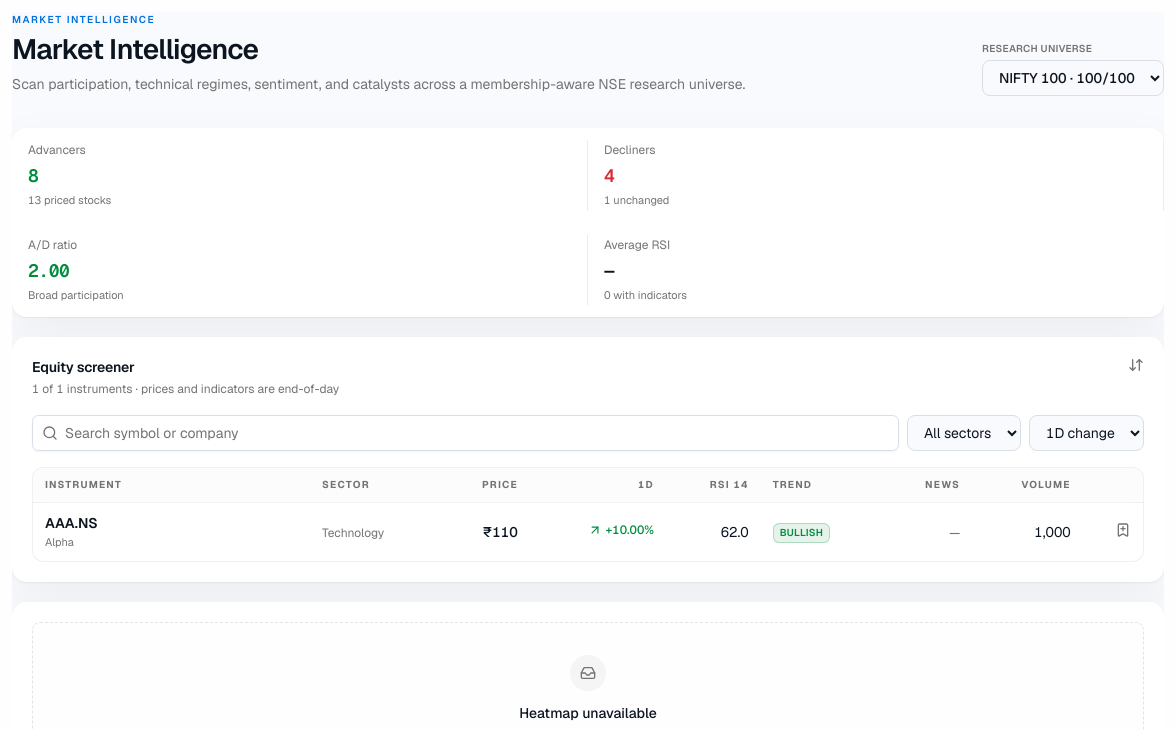
Test: MarketPage AI analysis states › adds a screener row to the authenticated watchlist
Click the button named "Add AAA.NS to watchlist". click: (1123,530)
box: [1115,522,1131,538]
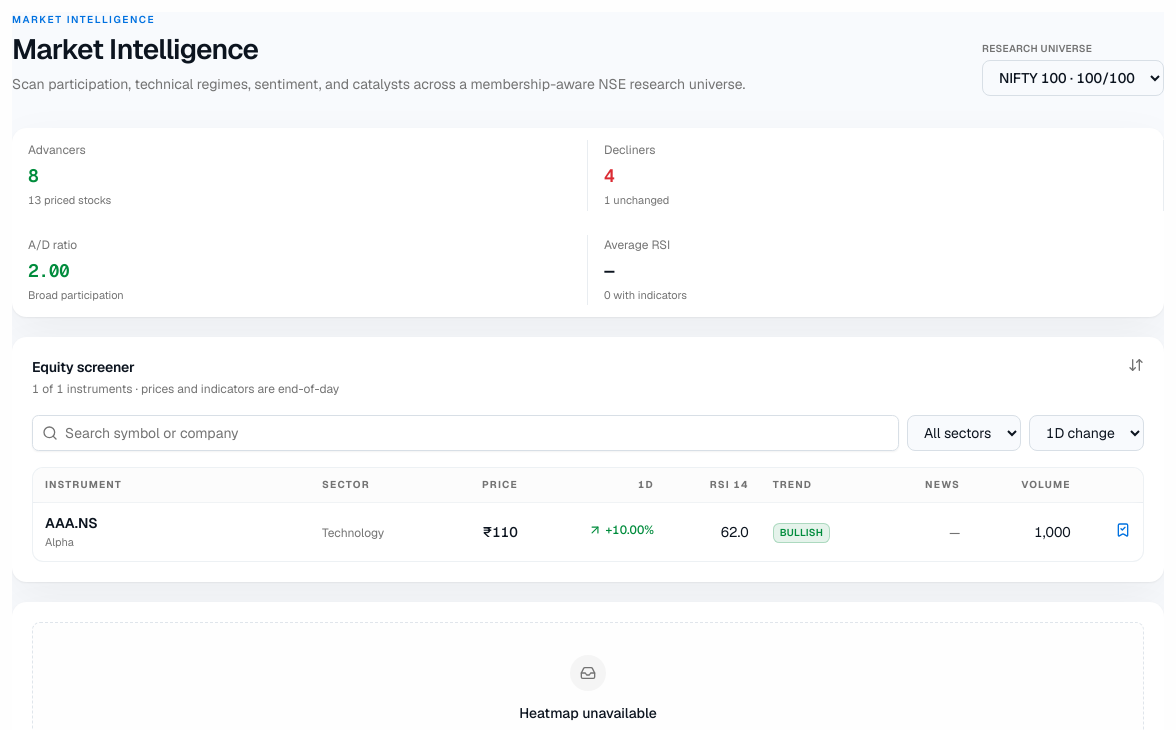
Expected: the button named "Remove AAA.NS from watchlist" is shown, [1115,522,1131,538]
